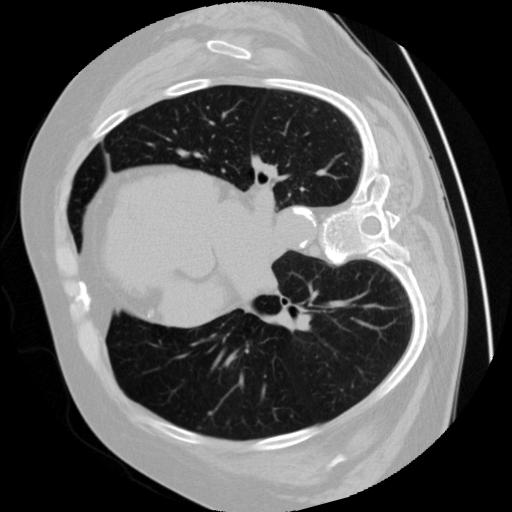nodule: (204, 408, 216, 420)
